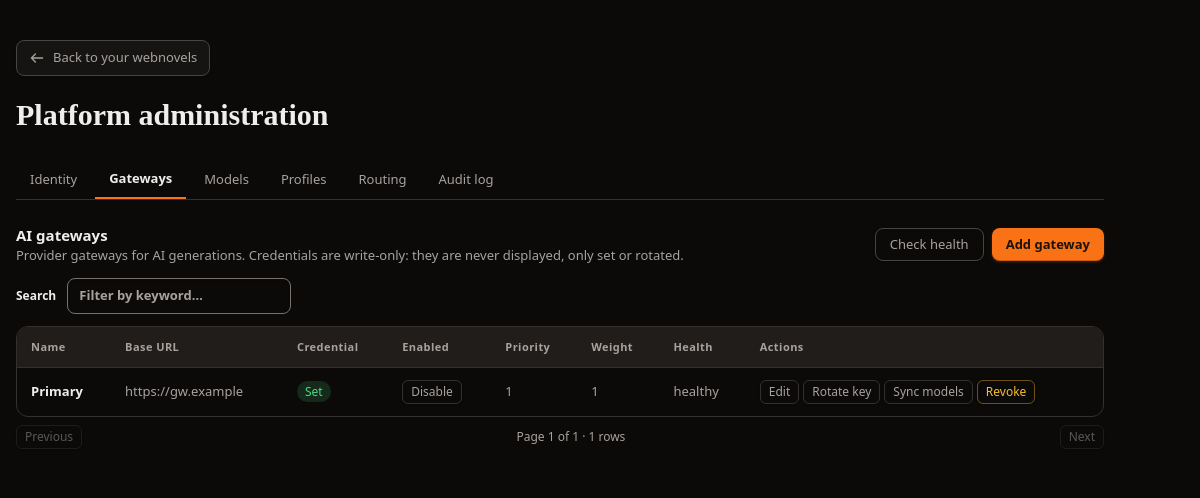
Test case: admin gateway action toasts › a failed model sync shows the red failure toast
Click the button "Sync models".
click(929, 392)  # box x1=884 y1=380 x2=973 y2=404
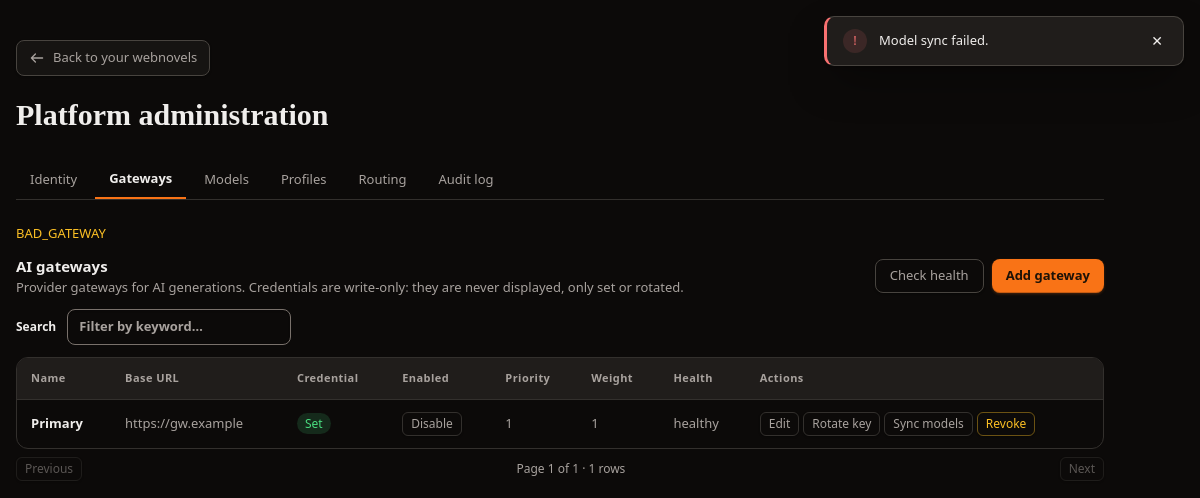
Now the message with test id "toast-error" shows "Model sync failed.", box x1=879 y1=31 x2=988 y2=49
